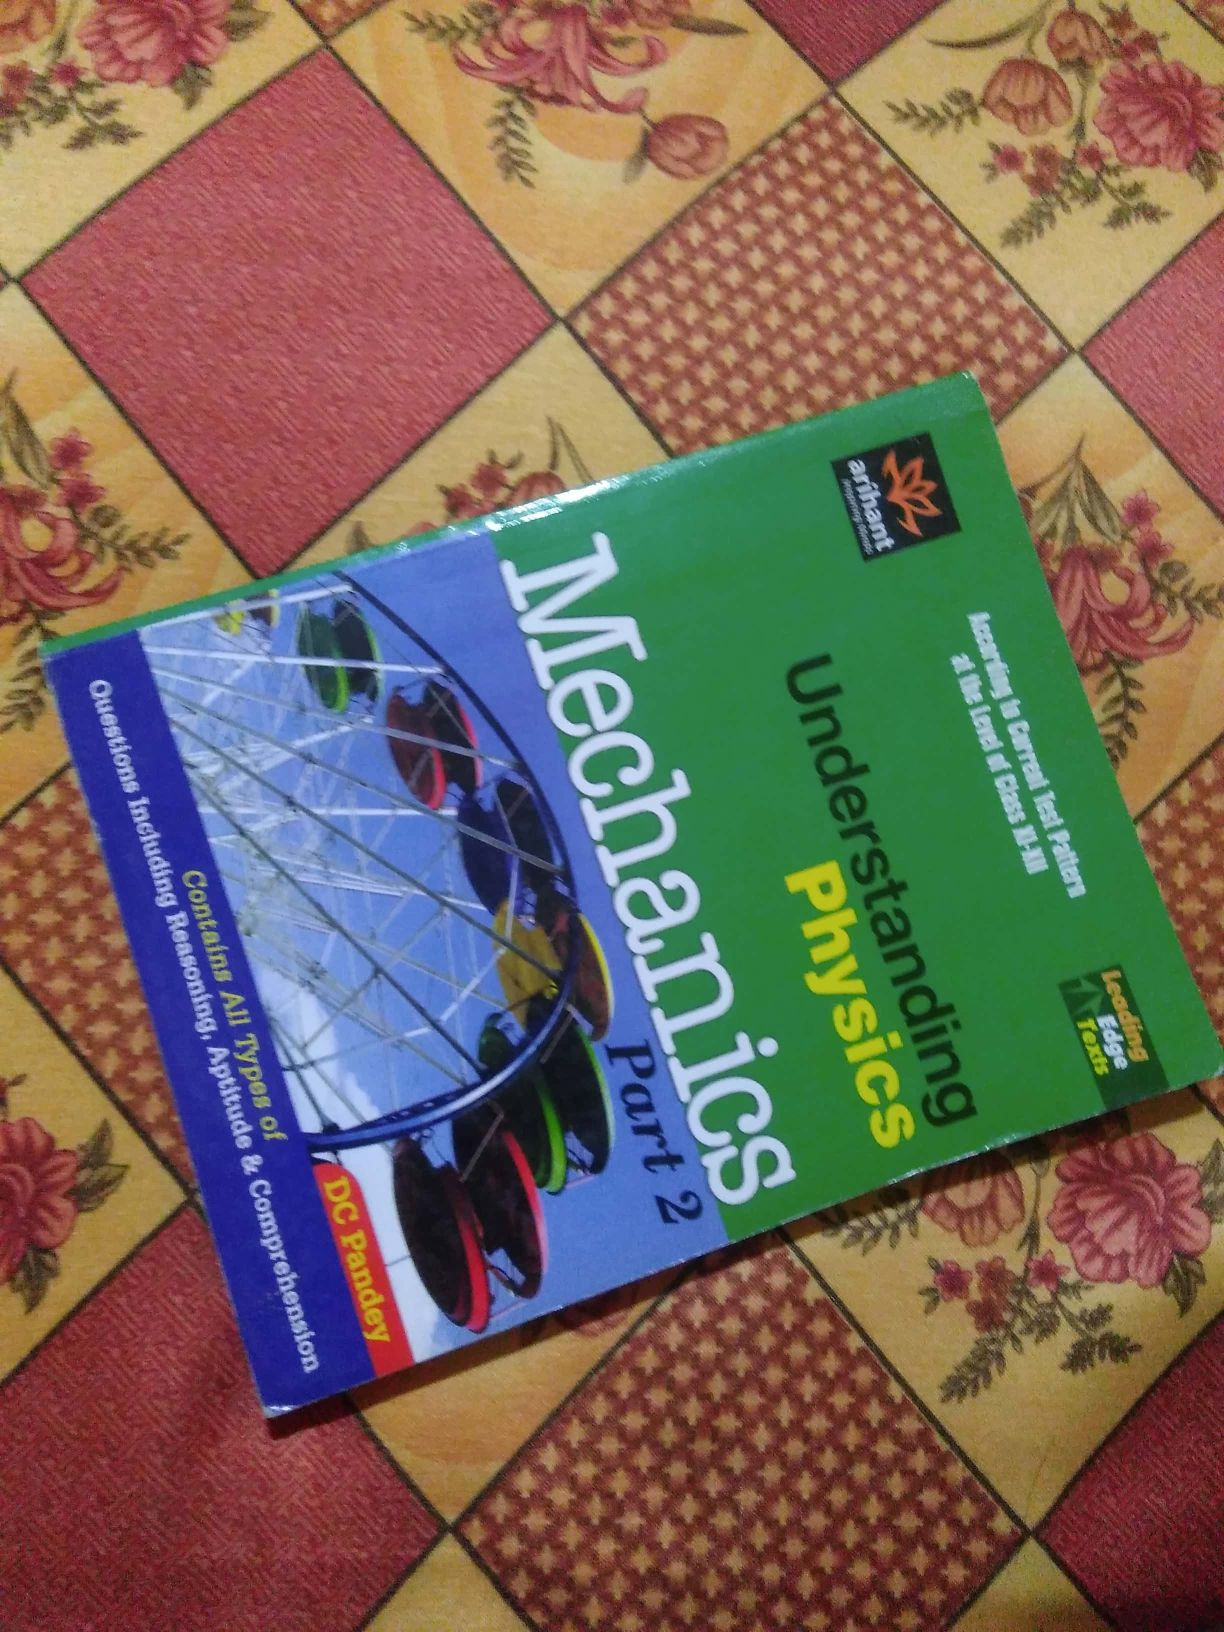mechanics: (24, 483, 1224, 1345)
